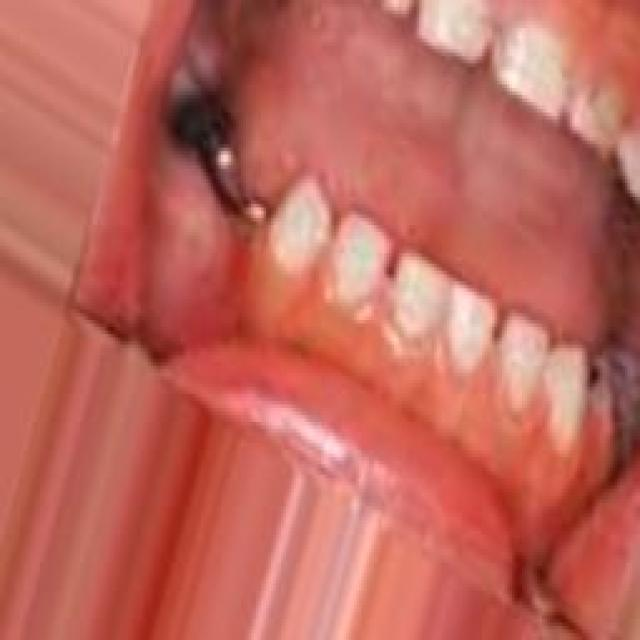caries: (584, 351, 615, 416)
